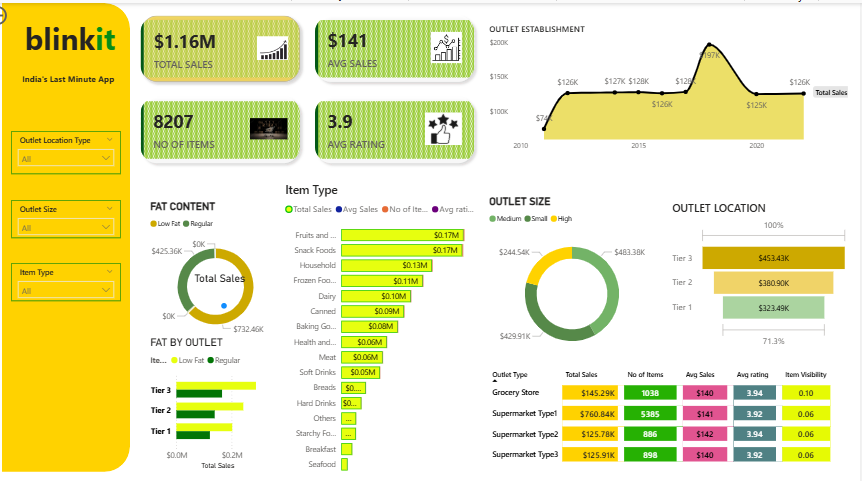

What the dashboard file says about the page in this screenshot:
{"tool":"powerbi","page":{"name":"Page 1","canvas":[1400,800],"ordinal":0},"visuals":[{"type":"shape","box":[27.2,0,204.8,750.4],"z":0},{"type":"textbox","box":[41.6,107.2,176,32],"z":1000},{"type":"textbox","box":[41.6,17.6,176,76.8],"z":2000},{"type":"cardVisual","fields":{"Data":["BlinkIT Grocery Data.Total Sales","BlinkIT Grocery Data.Avg Sales","BlinkIT Grocery Data.No of Items","BlinkIT Grocery Data.Avg rating"]},"box":[232,3.2,569.6,270.4],"z":3000},{"type":"shape","box":[801.6,17.6,598.4,12],"z":4000},{"type":"donutChart","title":"FAT CONTENT","fields":{"Y":["BlinkIT Grocery Data.Total Sales","BlinkIT Grocery Data.Avg Sales","BlinkIT Grocery Data.No of Items","BlinkIT Grocery Data.Avg rating","BlinkIT Grocery Data.Avg Sales"],"Category":["BlinkIT Grocery Data.Item Fat Content"]},"box":[259.2,315.2,219.2,230.4],"z":5000},{"type":"lineChart","fields":{"Y":["BlinkIT Grocery Data.Total Sales"]},"box":[329.6,430.4,105.6,91.2],"z":6000},{"type":"clusteredBarChart","title":"FAT BY OUTLET","fields":{"Y":["BlinkIT Grocery Data.Total Sales"],"Category":["BlinkIT Grocery Data.Outlet Location Type"],"Series":["BlinkIT Grocery Data.Item Fat Content"]},"box":[259.2,532.8,201.6,217.6],"z":7000},{"type":"barChart","title":"Item Type","fields":{"Y":["BlinkIT Grocery Data.Total Sales","BlinkIT Grocery Data.Avg Sales","BlinkIT Grocery Data.No of Items","BlinkIT Grocery Data.Avg rating"],"Category":["BlinkIT Grocery Data.Item Type"]},"box":[475.2,284.8,326.4,478.4],"z":8000},{"type":"lineChart","title":"OUTLET ESTABLISHMENT","fields":{"Category":["BlinkIT Grocery Data.Outlet Establishment Year"],"Y":["BlinkIT Grocery Data.Total Sales"]},"box":[801.6,32,584,214.4],"z":9000},{"type":"actionButton","box":[0,0,100,40],"z":10000},{"type":"donutChart","title":"OUTLET SIZE","fields":{"Category":["BlinkIT Grocery Data.Outlet Size"],"Y":["BlinkIT Grocery Data.Total Sales"]},"box":[801.6,307.2,275.2,270.4],"z":11000},{"type":"funnel","title":"OUTLET LOCATION","fields":{"Category":["BlinkIT Grocery Data.Outlet Location Type"],"Y":["BlinkIT Grocery Data.Total Sales"]},"box":[1094.4,315.2,291.2,241.6],"z":12000},{"type":"pivotTable","fields":{"Rows":["BlinkIT Grocery Data.Outlet Type"],"Values":["BlinkIT Grocery Data.Total Sales","BlinkIT Grocery Data.No of Items","BlinkIT Grocery Data.Avg Sales","BlinkIT Grocery Data.Avg rating","Avg(BlinkIT Grocery Data.Item Visibility)"]},"box":[801.6,577.6,563.2,172.8],"z":13000},{"type":"slicer","fields":{"Values":["BlinkIT Grocery Data.Outlet Location Type"]},"box":[41.6,204.8,176,68.8],"z":14000},{"type":"slicer","fields":{"Values":["BlinkIT Grocery Data.Outlet Size"]},"box":[41.6,315.2,176,60.8],"z":15000},{"type":"slicer","fields":{"Values":["BlinkIT Grocery Data.Item Type"]},"box":[41.6,416,176,60.8],"z":16000}]}

Visuals, with their boxes in screenshot pixels (x1, y1, x2, y2), scaled from the page's 1400x800 canvas onto the 862x481 screenshot:
shape: box=[17, 0, 143, 451]
textbox: box=[26, 64, 134, 84]
textbox: box=[26, 11, 134, 57]
cardVisual - BlinkIT Grocery Data.Total Sales x BlinkIT Grocery Data.Avg Sales: box=[143, 2, 494, 165]
shape: box=[494, 11, 861, 18]
"FAT CONTENT" donutChart: box=[160, 190, 295, 328]
lineChart - BlinkIT Grocery Data.Total Sales: box=[203, 259, 268, 314]
"FAT BY OUTLET" clusteredBarChart: box=[160, 320, 284, 451]
"Item Type" barChart: box=[293, 171, 494, 459]
"OUTLET ESTABLISHMENT" lineChart: box=[494, 19, 853, 148]
actionButton: box=[0, 0, 62, 24]
"OUTLET SIZE" donutChart: box=[494, 185, 663, 347]
"OUTLET LOCATION" funnel: box=[674, 190, 853, 335]
pivotTable - BlinkIT Grocery Data.Outlet Type x BlinkIT Grocery Data.Total Sales: box=[494, 347, 840, 451]
slicer - BlinkIT Grocery Data.Outlet Location Type: box=[26, 123, 134, 165]
slicer - BlinkIT Grocery Data.Outlet Size: box=[26, 190, 134, 226]
slicer - BlinkIT Grocery Data.Item Type: box=[26, 250, 134, 287]
